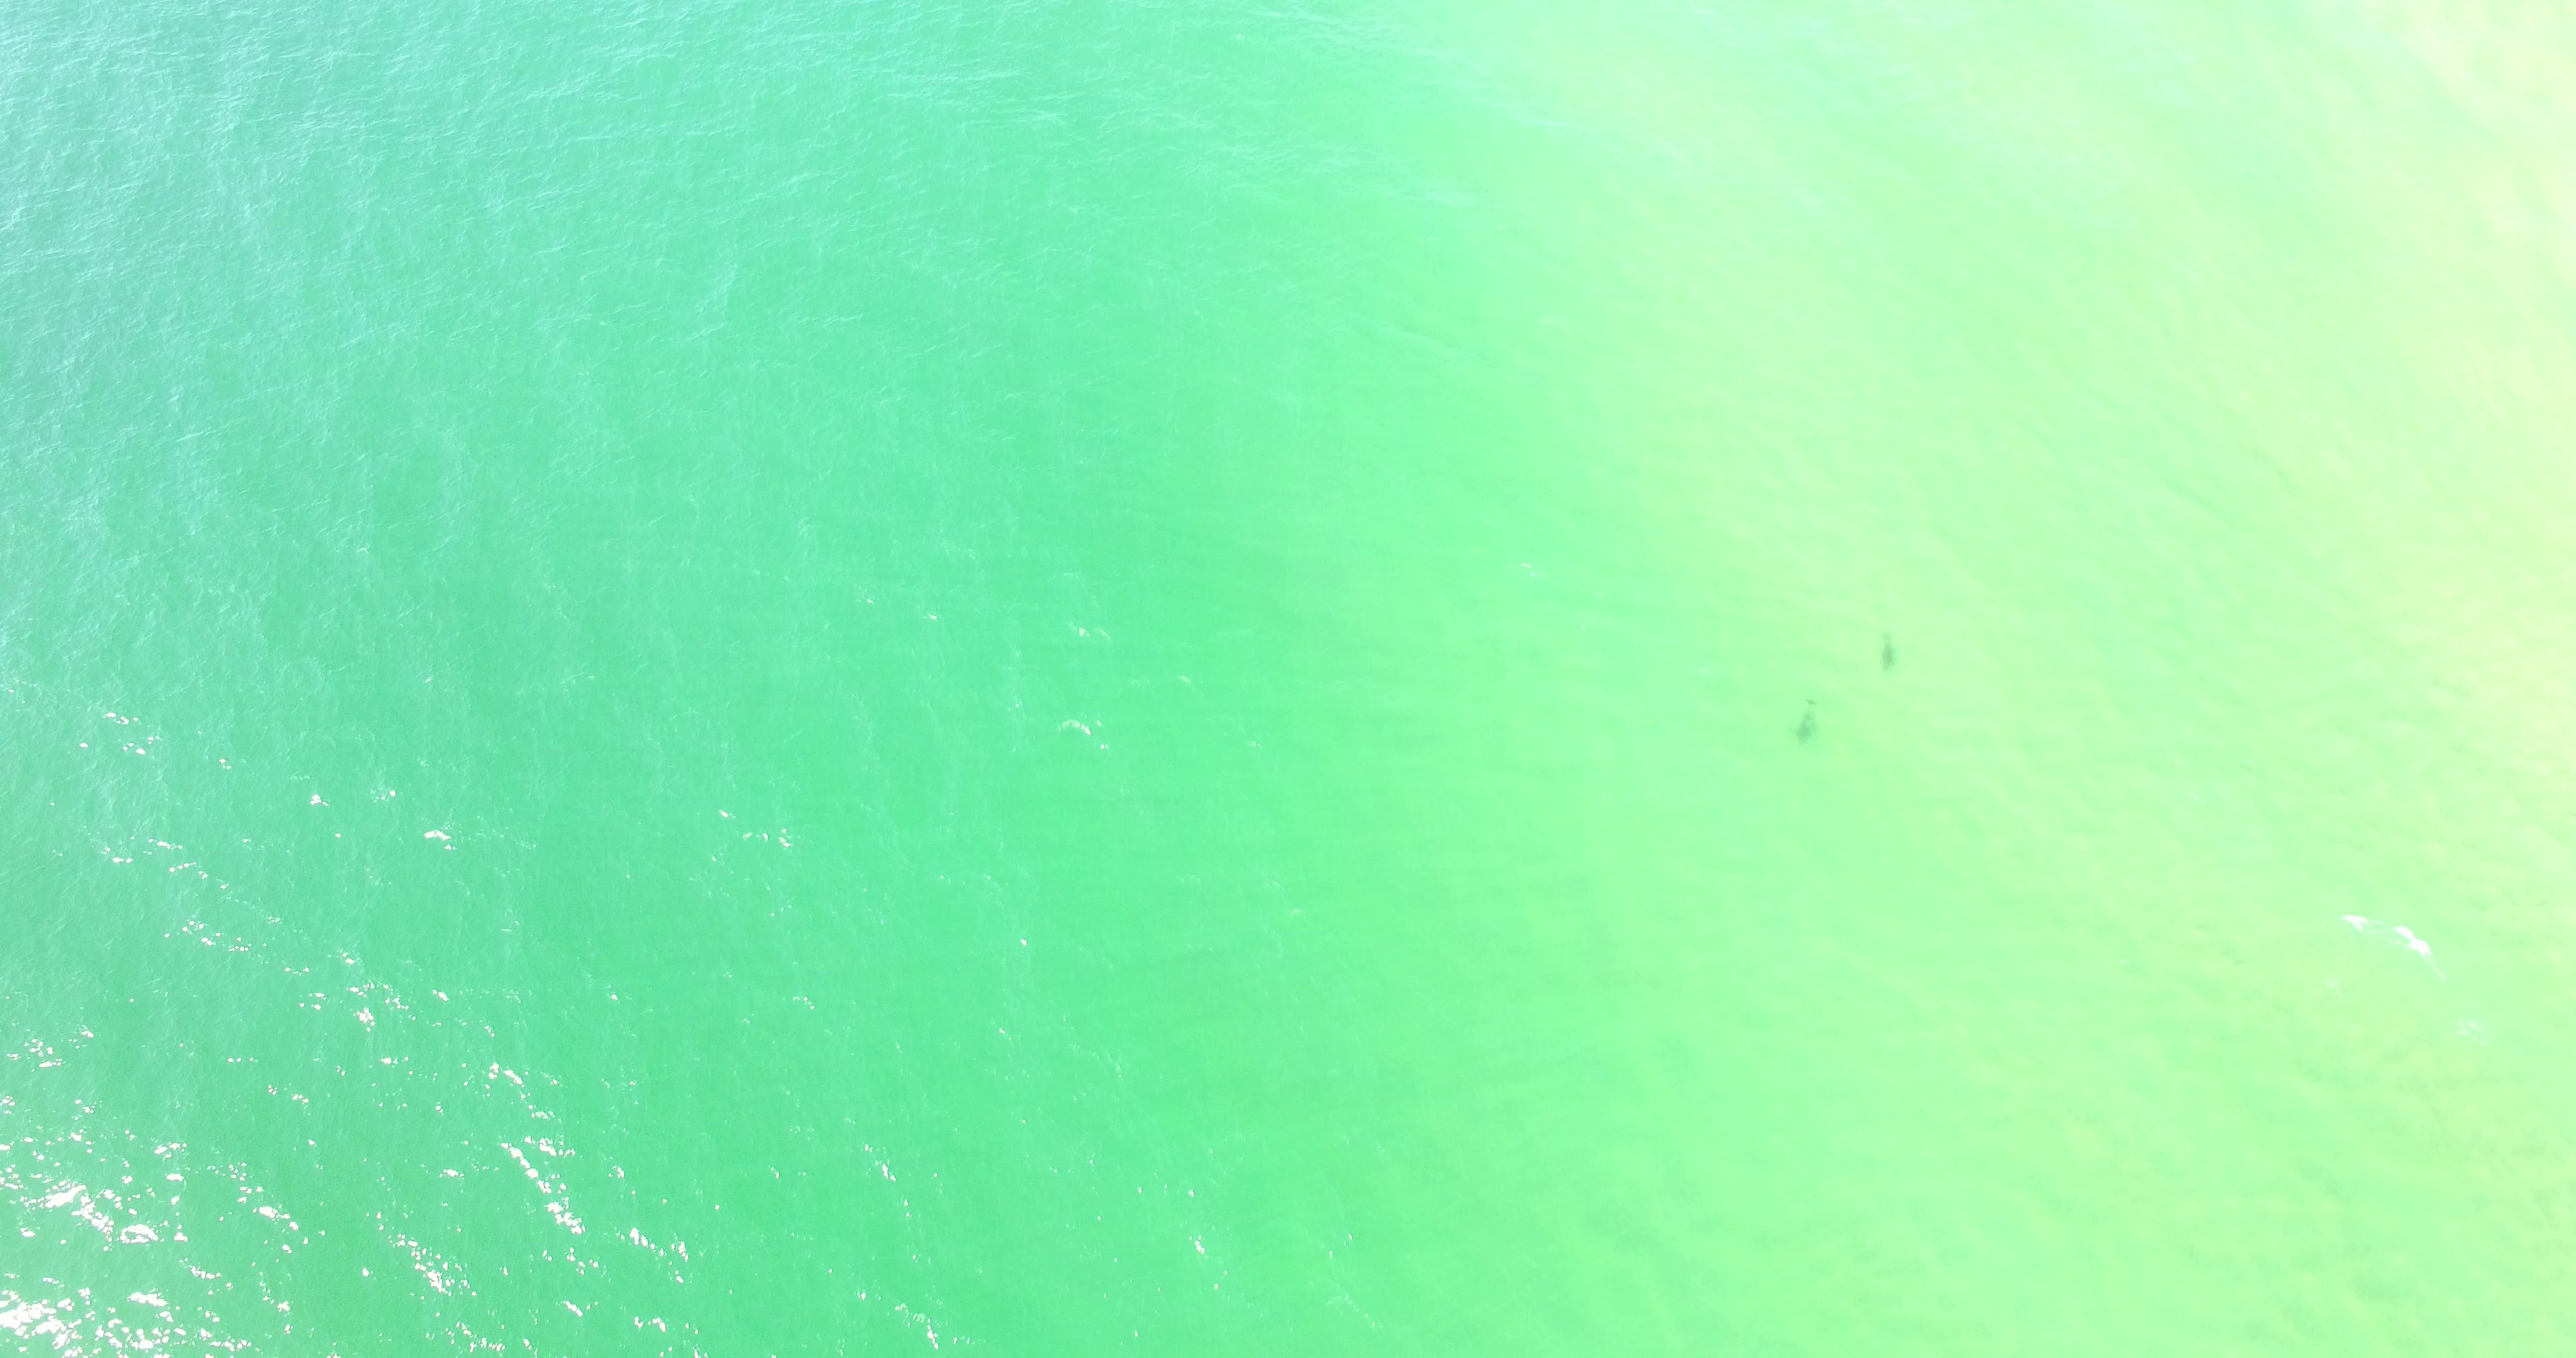dolphin: (1797, 695, 1818, 746), (1877, 630, 1896, 675)
